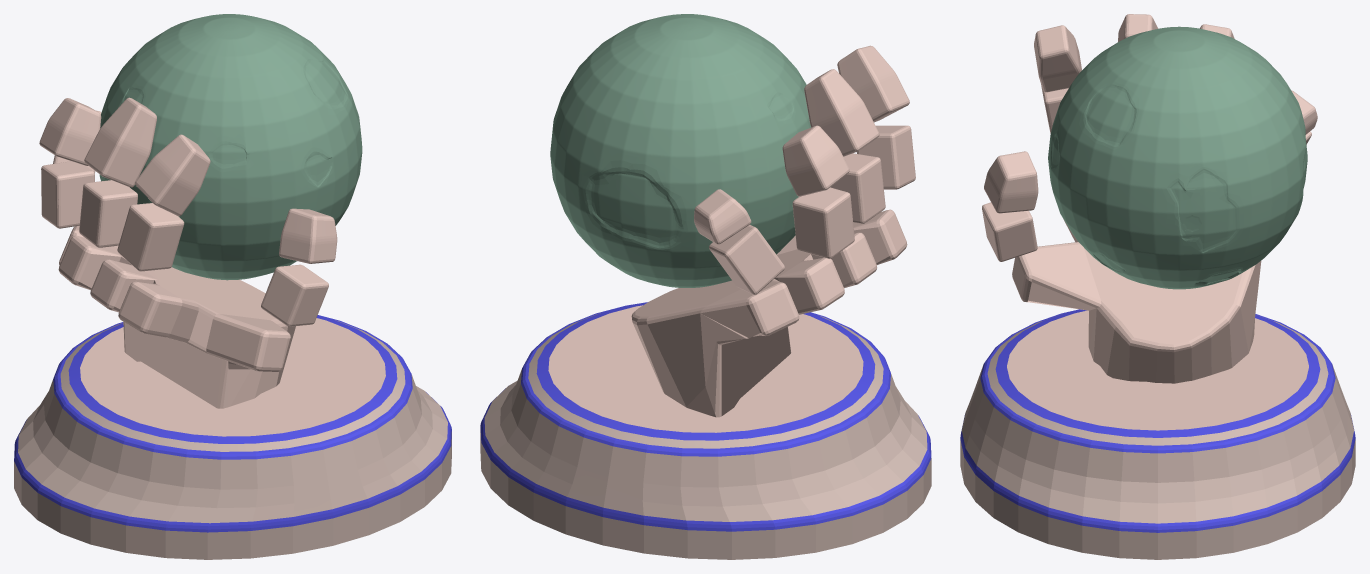
Rendered from Statue_de_la_victoire_MC.fbx.
3 views of the same model, side by side, from view 1: azimuth 30°, elevation 25°; view 2: azimuth 150°, elevation 25°; view 3: azimuth 270°, elevation 25° (orthographic). The views are drawn at different scales.
Visible parts, largest first — view 1: Cylinder; view 2: Cylinder; view 3: Cylinder.
Part boxes in pixels (box(x1,y1,x2,y2)): Cylinder: box(14, 14, 451, 559); Cylinder: box(480, 14, 931, 559); Cylinder: box(960, 14, 1355, 559).
Size of the model in its own units: 1427 by 1520 by 1266.
